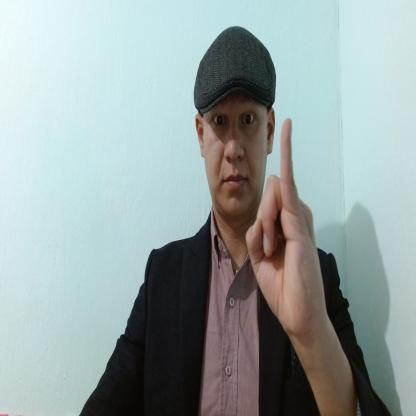I: (243, 115, 324, 337)
